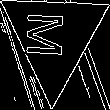M_E: (31, 14, 77, 63)
